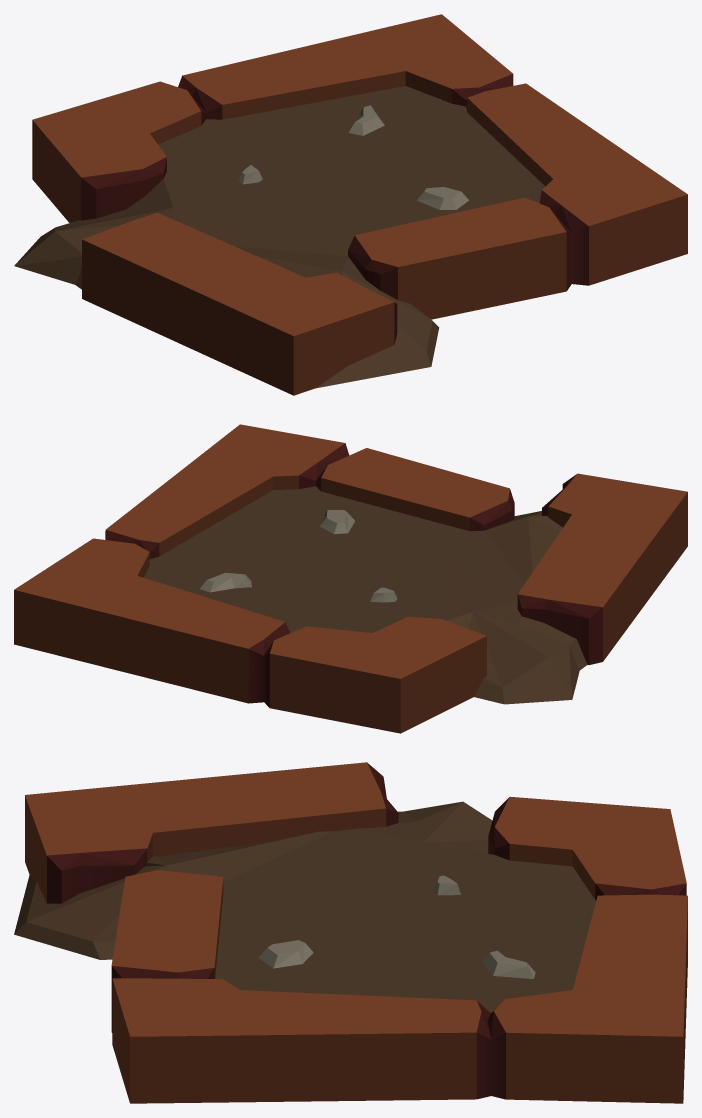
File: Tree_Ground_02.FBX
3 renders of one model, top to bottom at view 1: azimuth 30°, elevation 25°; view 2: azimuth 150°, elevation 25°; view 3: azimuth 270°, elevation 25°, orthographic. The views are drawn at different scales.
Visible parts, largest first — view 1: Tree_Ground_02; view 2: Tree_Ground_02; view 3: Tree_Ground_02.
Boxes of the visible parts, box(x1,y1,x2,y2) form: Tree_Ground_02: box(14, 14, 687, 395); Tree_Ground_02: box(14, 424, 687, 733); Tree_Ground_02: box(14, 762, 687, 1103).
Bounding box in the file's own units: 1.82 × 0.2 × 1.83.
